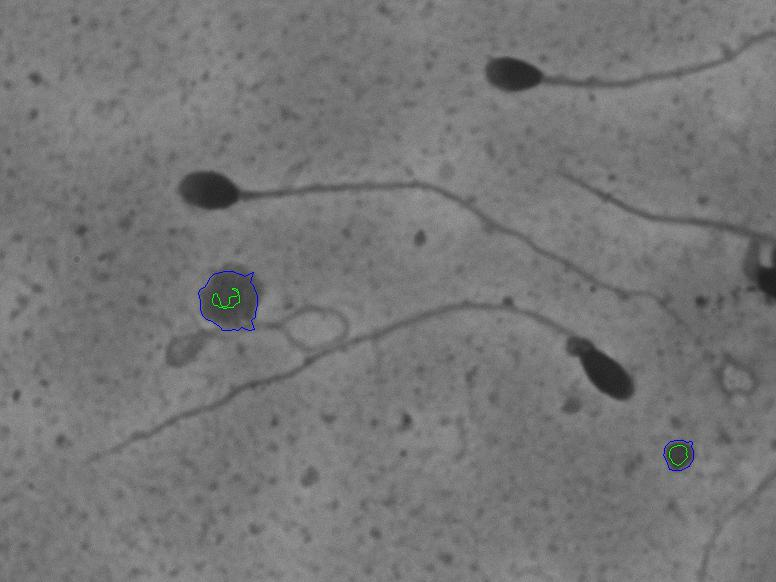Abnormal: (75, 285, 648, 481)
Normal: (161, 152, 741, 375), (453, 12, 758, 126)
